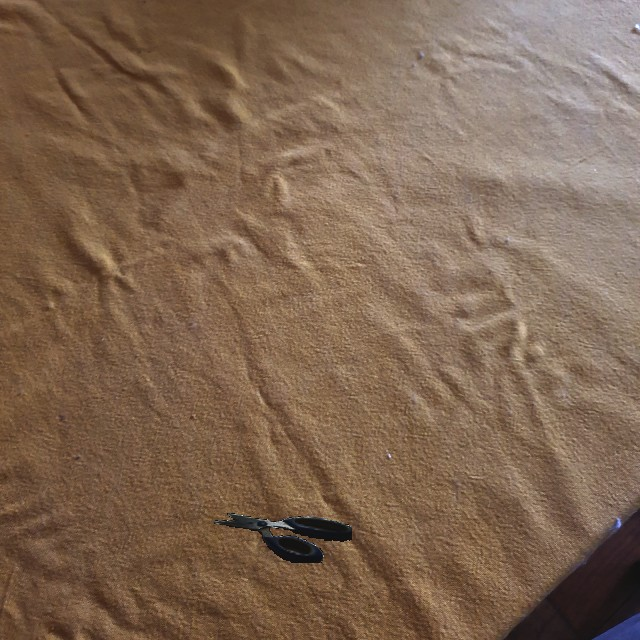scissors: (213, 513, 352, 563)
